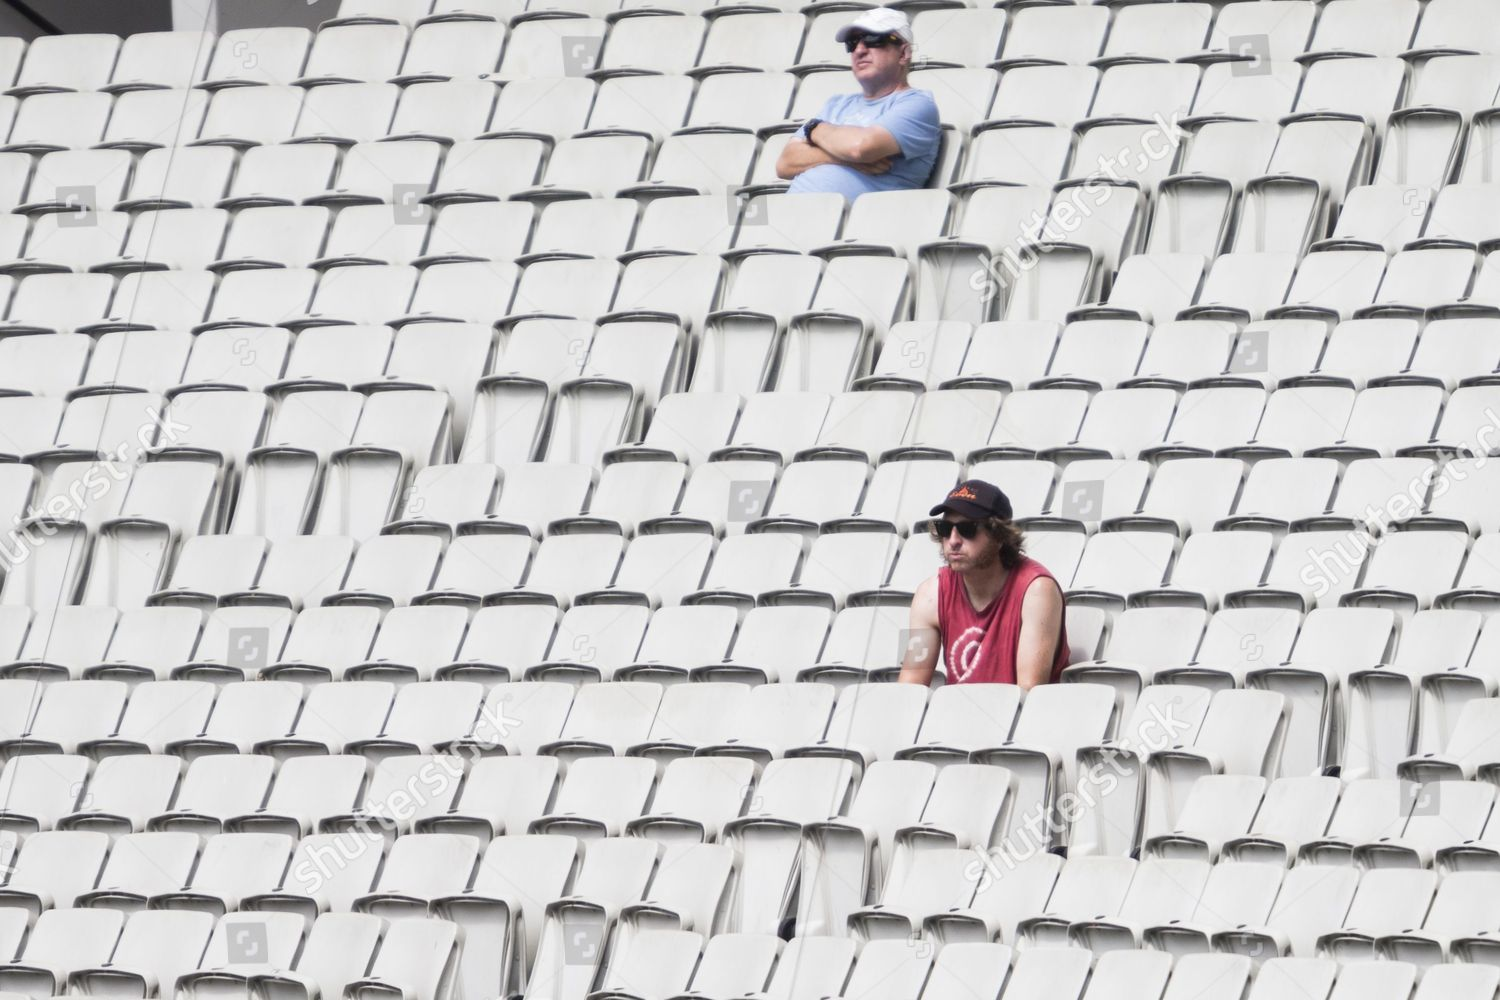Person: (897, 480, 1072, 693), (774, 7, 942, 201)
